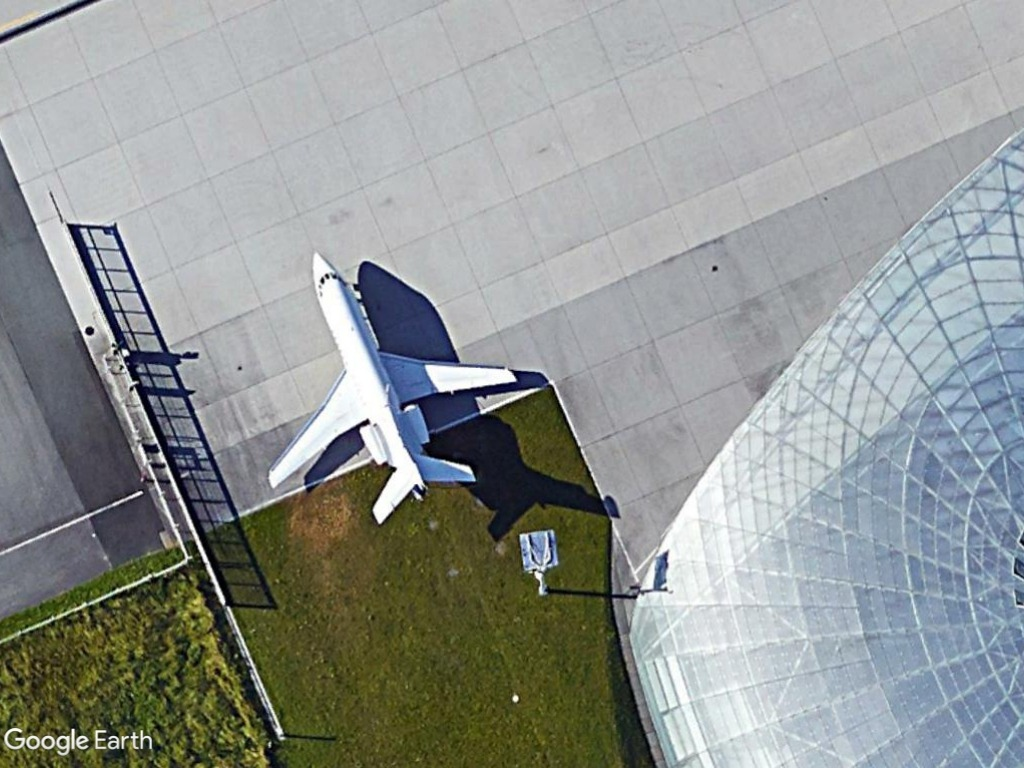chartered: (261, 246, 522, 528)
